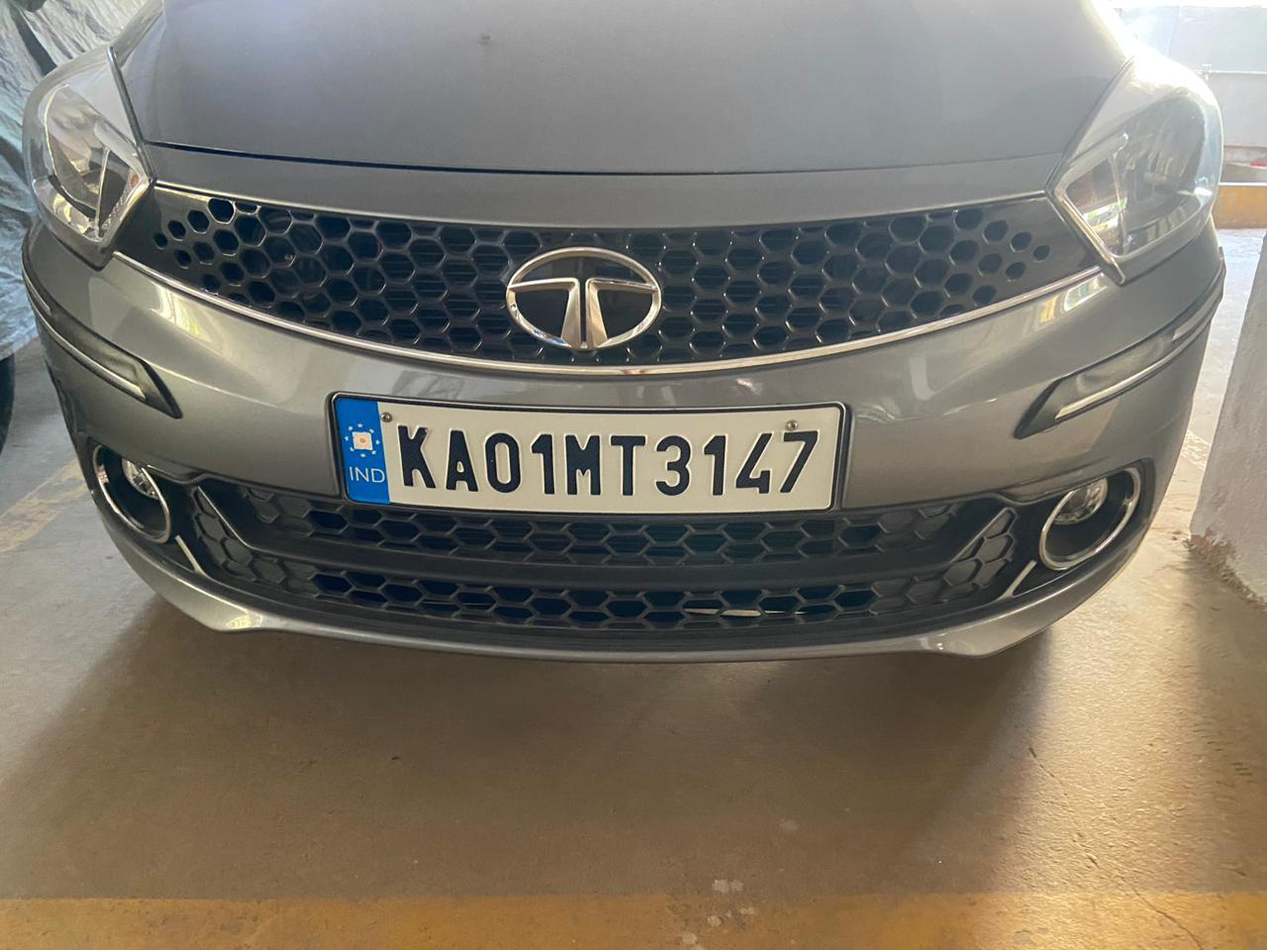0: (479, 414, 524, 501)
1: (699, 424, 733, 507), (529, 422, 558, 497)
3: (650, 428, 695, 507)
4: (735, 430, 783, 502)
7: (772, 418, 820, 501)
A: (442, 414, 481, 501)
K: (384, 410, 440, 494)
M: (563, 422, 609, 505)
T: (610, 426, 647, 504)
